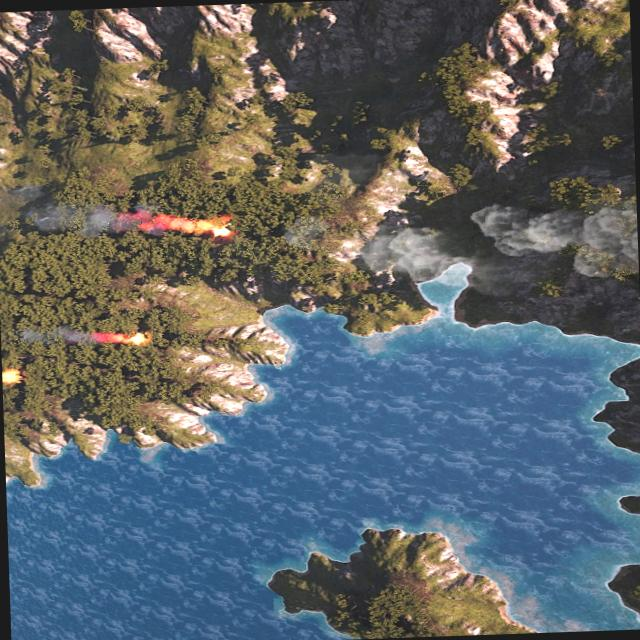fire: (145, 208, 234, 238), (98, 328, 145, 344), (1, 367, 20, 382)
smoke: (282, 189, 637, 293), (0, 179, 193, 245), (18, 326, 118, 349)
